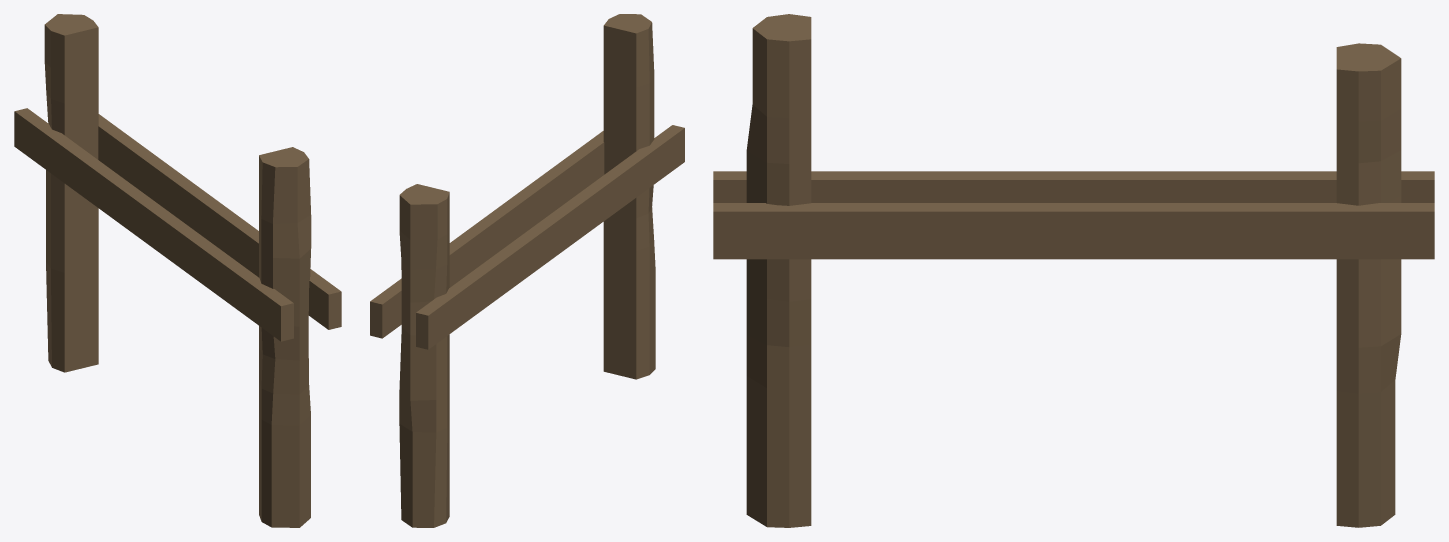
File: PierSupport.fbx
The picture shows the model from 3 angles, left to right: view 1: azimuth 30°, elevation 25°; view 2: azimuth 150°, elevation 25°; view 3: azimuth 270°, elevation 25°; orthographic projection. The views are drawn at different scales.
Parts seen in each view (by area): view 1: Pylon 5.002; view 2: Pylon 5.002; view 3: Pylon 5.002.
Boxes of the visible parts, x1,y1,x2,y2 form: Pylon 5.002: (14,14,341,527); Pylon 5.002: (370,14,684,527); Pylon 5.002: (713,14,1434,527).
Size of the model in its own units: 166 by 943 by 1267.
